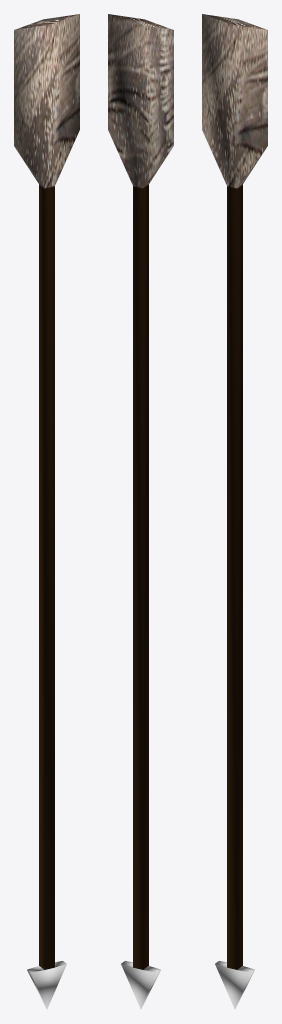
The model's file is archer-arrow-projectile.fbx.
The picture shows the model from 3 angles, left to right: view 1: azimuth 30°, elevation 25°; view 2: azimuth 150°, elevation 25°; view 3: azimuth 330°, elevation 25°; orthographic projection.
Parts seen in each view (by area): view 1: arrow-projectile; view 2: arrow-projectile; view 3: arrow-projectile.
Part boxes in pixels (x1,y1,x2,y2): arrow-projectile: [14, 14, 79, 1009]; arrow-projectile: [108, 14, 173, 1009]; arrow-projectile: [202, 14, 267, 1009].
Size of the model in its own units: 23.32 by 335 by 4.45.
